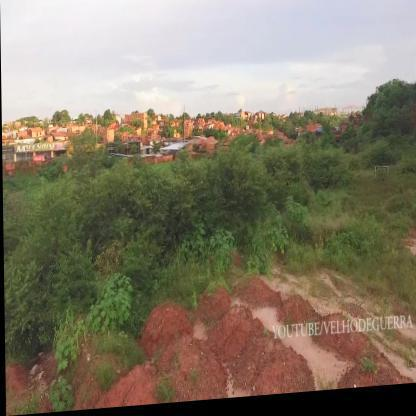agua: (252, 310, 280, 342)
